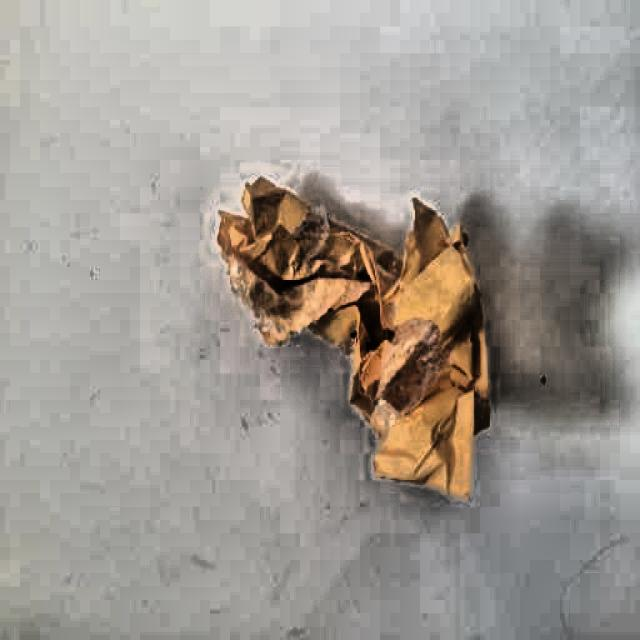trash: (213, 172, 504, 506)
